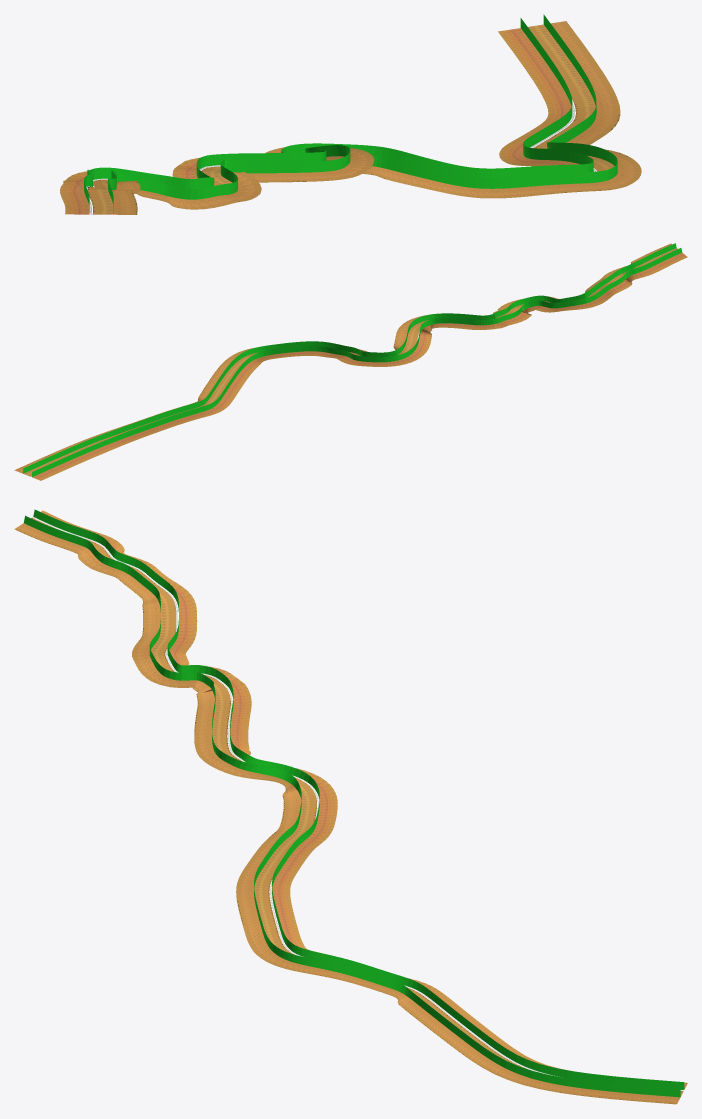
Rendered from TutrialCourseTest3.fbx.
3 renders of one model, top to bottom at view 1: azimuth 30°, elevation 25°; view 2: azimuth 150°, elevation 25°; view 3: azimuth 270°, elevation 25°, orthographic. The views are drawn at different scales.
Parts seen in each view (by area): view 1: Course; view 2: Course; view 3: Course.
Part boxes in pixels (box(x1,y1,x2,y2)): Course: box(60, 14, 641, 214); Course: box(14, 243, 687, 480); Course: box(14, 509, 687, 1104).
Size of the model in its own units: 14703 by 5388 by 12387.
